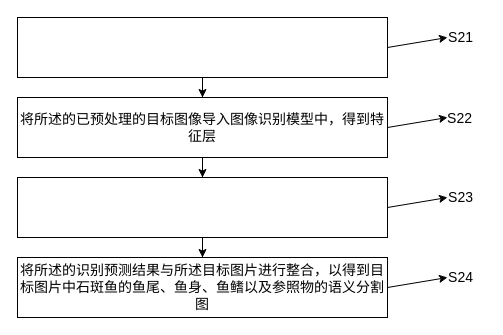
The diagram is 503 pixels wide and 335 high, and some of its shapes have lost their labels. Each missing label, with the centre of its shape:
利用所述的特征层利用卷积进行调整，将最终特征层通道数调整成num_classes获得预测结果: the point at 202,207
将所述的目标图像进行统一 的 图像缩放预处理达到统一大小: the point at 202,47
